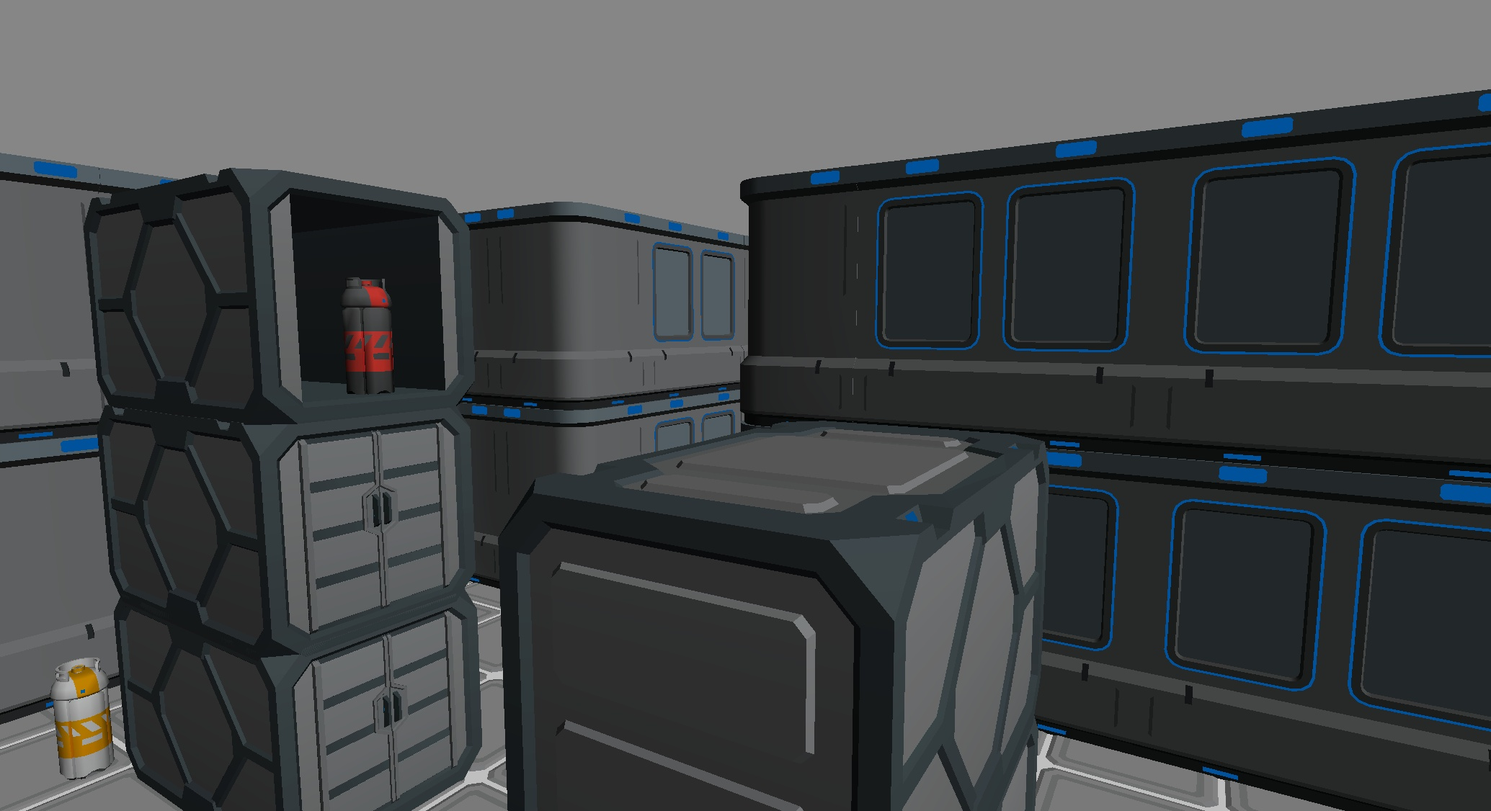red_barrel: (342, 277, 393, 393)
yellow_barrel: (51, 657, 112, 779)
